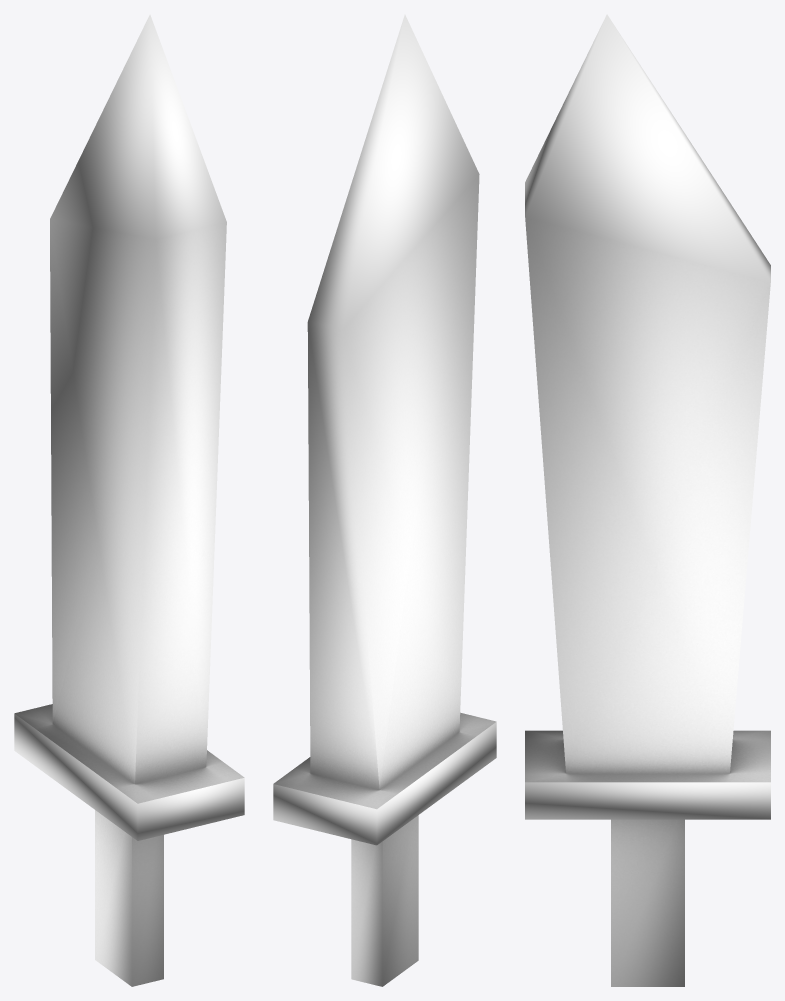
File: Sword.dae
The picture shows the model from 3 angles, left to right: view 1: azimuth 30°, elevation 25°; view 2: azimuth 150°, elevation 25°; view 3: azimuth 270°, elevation 25°; orthographic projection. The views are drawn at different scales.
Parts seen in each view (by area): view 1: Sword; view 2: Sword; view 3: Sword.
Part boxes in pixels (x1=…): Sword: x1=14, y1=14, x2=244, y2=986; Sword: x1=273, y1=14, x2=496, y2=986; Sword: x1=525, y1=14, x2=770, y2=986.
Bounding box in the file's own units: 0.3 × 0.6 × 2.6.
1 material, 1 textured.
